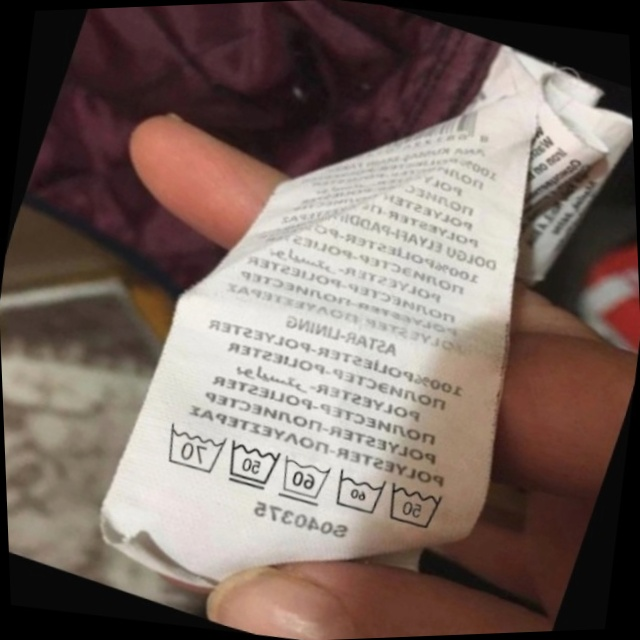50C: (372, 467, 456, 543), (212, 428, 289, 501)
60C: (265, 443, 339, 514), (320, 458, 394, 527)
70C: (149, 412, 233, 484)
